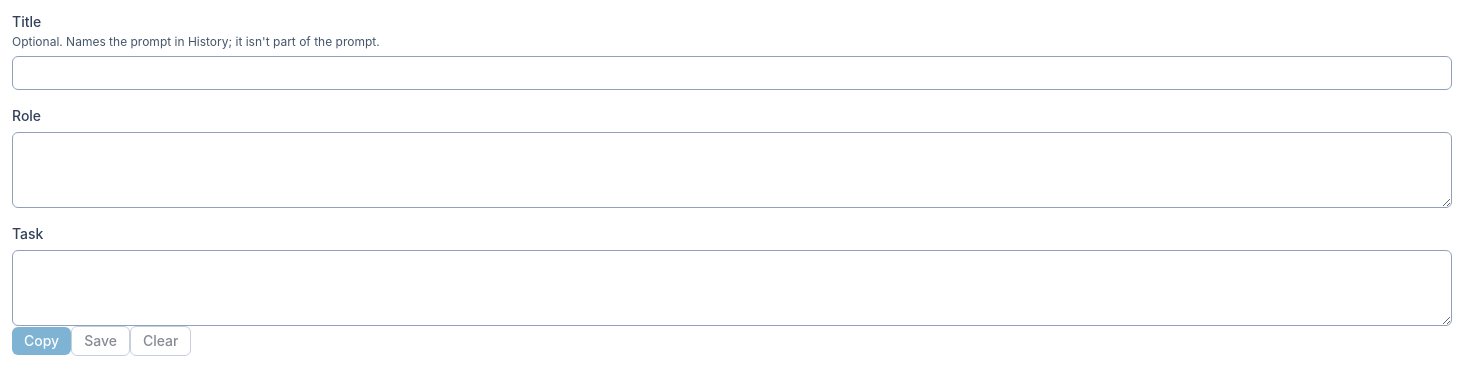
Test case: PromptActions › offers only Clear for a title alone, and clears it
The width and height of the screenshot is (1464, 377).
In the field labelled "Title": (732, 73) [12, 56, 1452, 90], type "Login fix"
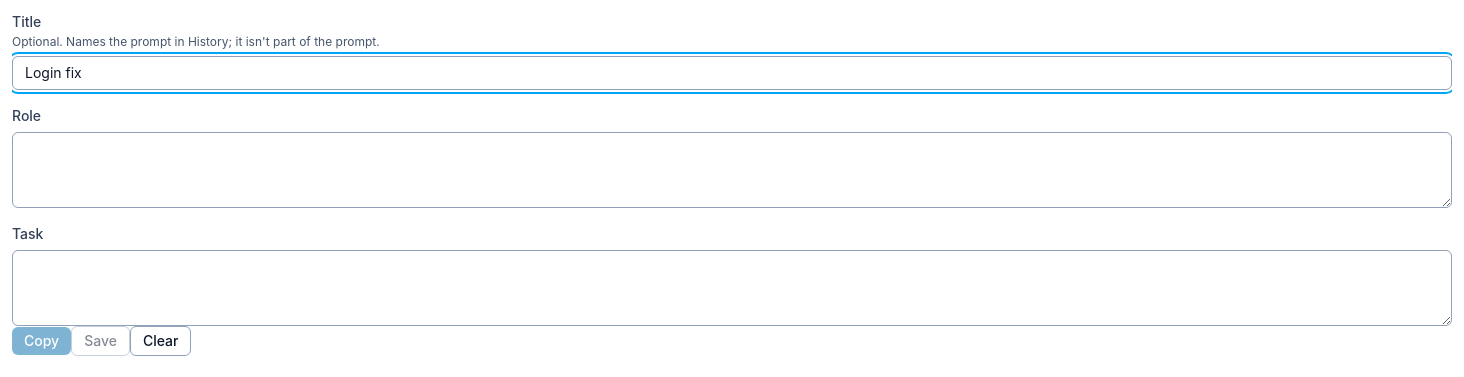
Check: the button "Clear" does not have attribute aria-disabled="true"
Click the button "Clear": (161, 341) [130, 326, 192, 356]
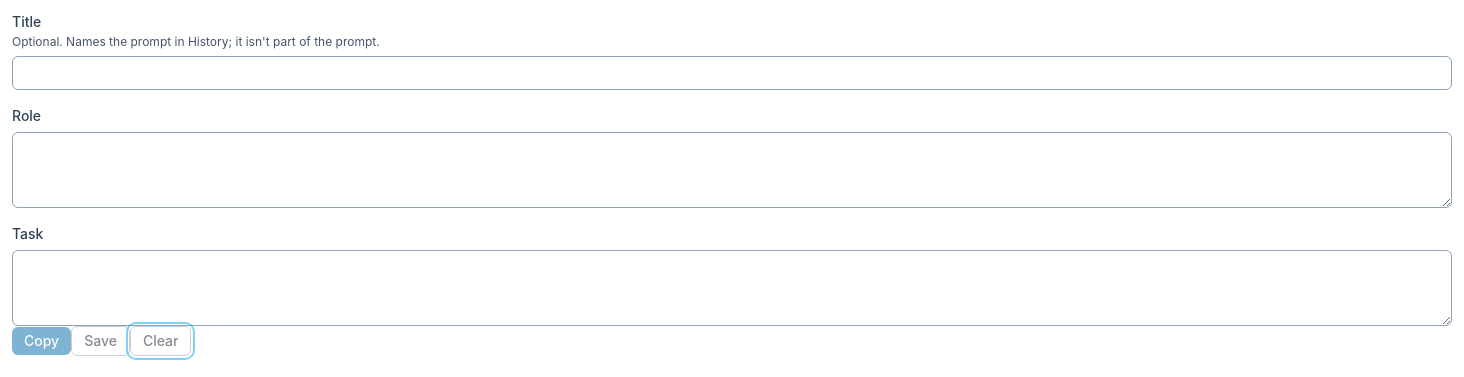
Check: the field labelled "Title" is empty, box [12, 56, 1452, 90]
